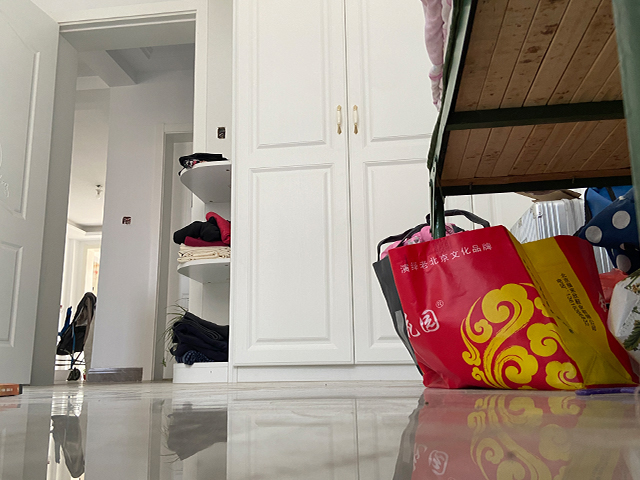bed: (424, 1, 640, 260)
cabinet: (184, 104, 425, 384)
